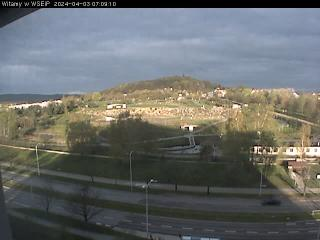car: (260, 196, 280, 206)
